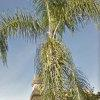Palm tree: (25, 4, 88, 97)
